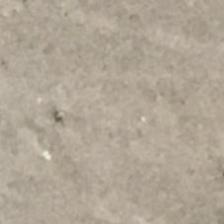Non_Crack: (40, 40, 224, 188)
